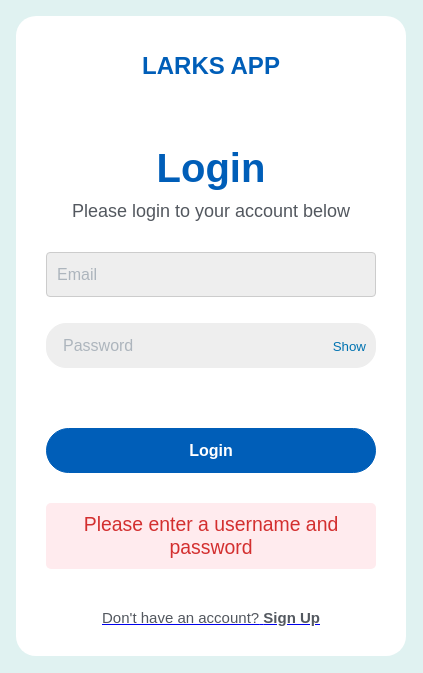
it: SignIn › displays network error message when the user is offline
The image size is (423, 673).
Type "test@example.com" into the field with placeholder "Email". click: (211, 274)
box: [46, 252, 376, 297]
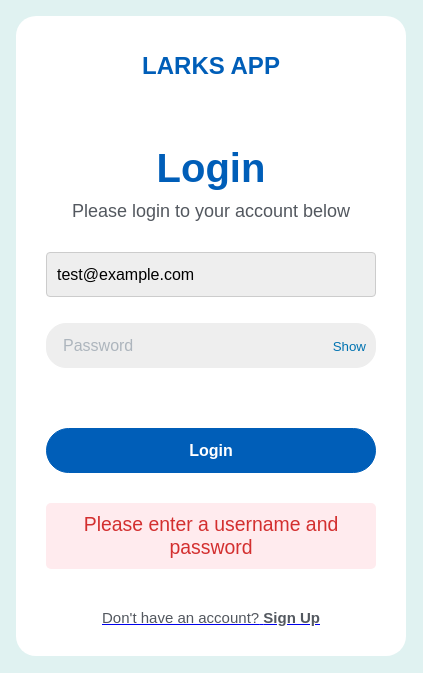
Type "password123" into the password field with placeholder "Password". click: (211, 346)
box: [46, 323, 376, 368]
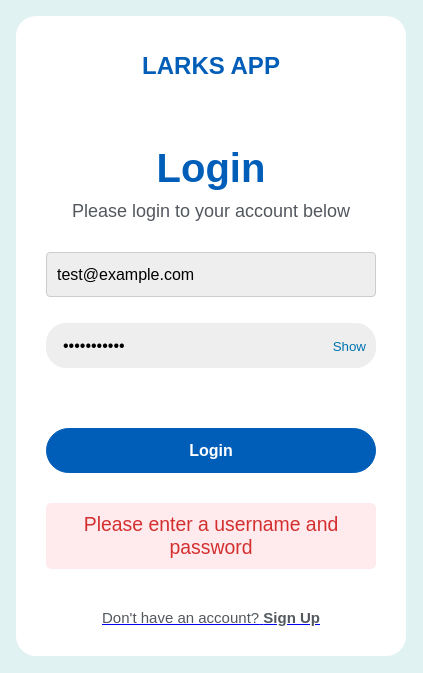
Click the button "Login". click: (211, 450)
box: [46, 428, 376, 473]
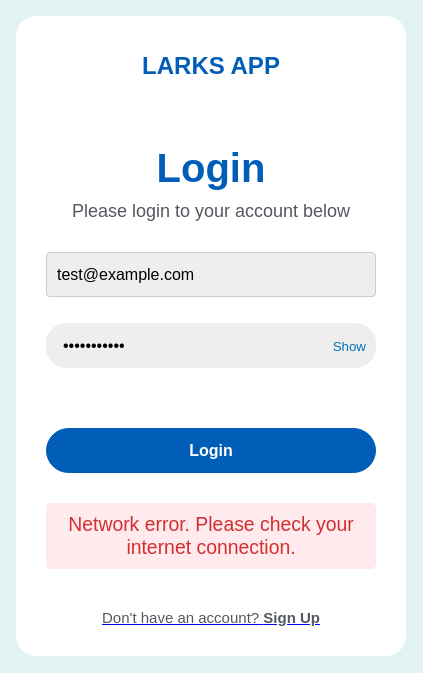
Result: the text "Network error. Please check your internet connection." is shown at [46, 503, 376, 569]
